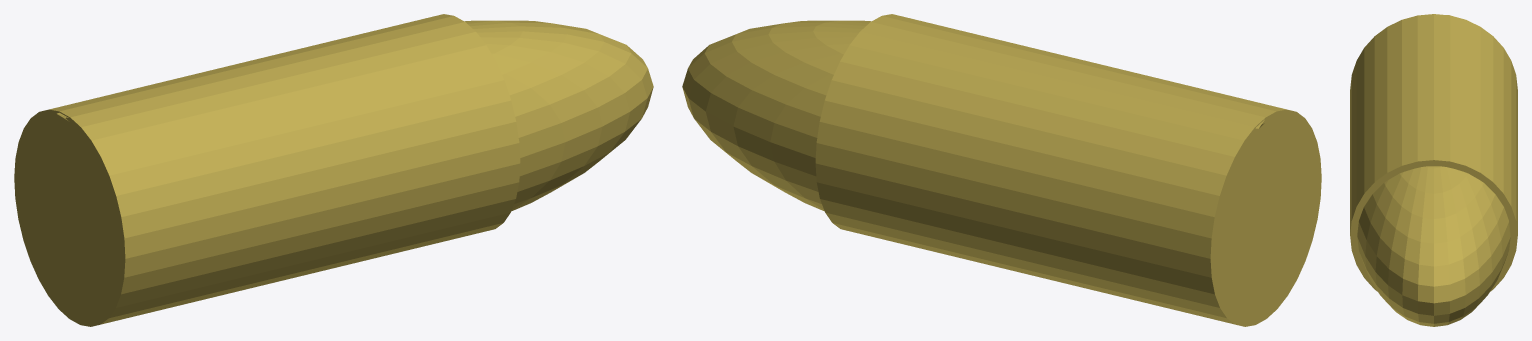
File: bullet.obj
3 views of the same model, side by side, from view 1: azimuth 30°, elevation 25°; view 2: azimuth 150°, elevation 25°; view 3: azimuth 270°, elevation 25° (orthographic). The views are drawn at different scales.
Parts seen in each view (by area): view 1: 円柱_円柱.001, 球_球.001; view 2: 円柱_円柱.001, 球_球.001; view 3: 円柱_円柱.001, 球_球.001.
Part boxes in pixels (x1,y1,x2,y2): 円柱_円柱.001: [14, 14, 520, 326]; 球_球.001: [464, 20, 653, 211]; 円柱_円柱.001: [815, 14, 1321, 326]; 球_球.001: [682, 20, 871, 211]; 円柱_円柱.001: [1350, 14, 1517, 291]; 球_球.001: [1357, 166, 1510, 326].
Bounding box in the file's own units: 1.64 × 0.5451 × 0.5429.
3 materials, 3 textured.
